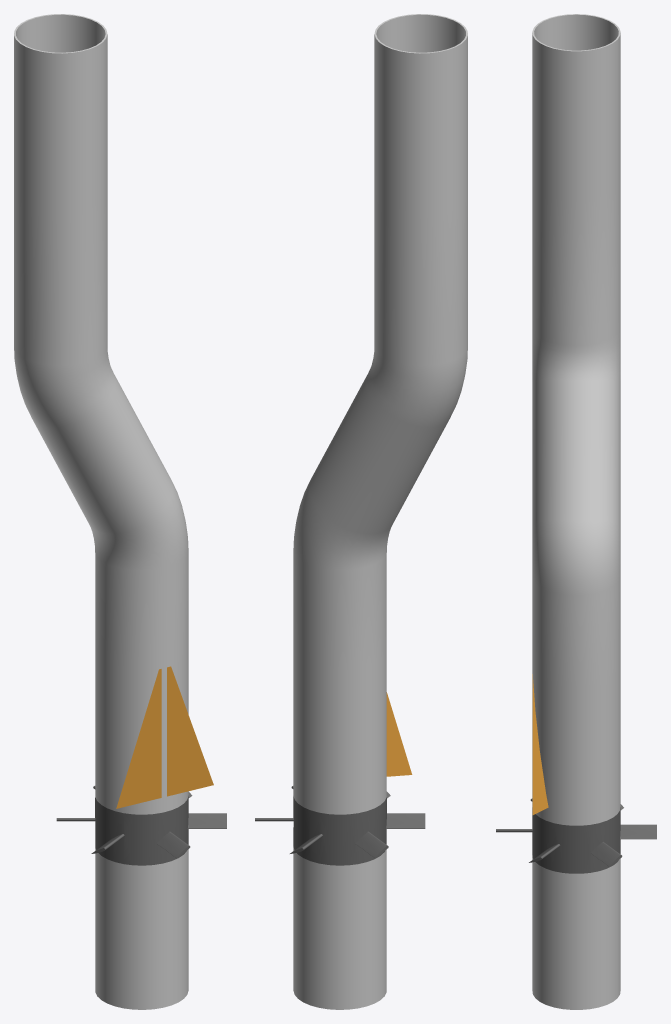
File: fan_tunnel.fbx
3 renders of one model, left to right at view 1: azimuth 30°, elevation 25°; view 2: azimuth 150°, elevation 25°; view 3: azimuth 270°, elevation 25°, orthographic. The views are drawn at different scales.
Visible parts, largest first — view 1: ztube, tube, ramp, Fan, Fan blade.003; view 2: ztube, tube, Fan, Fan blade.003, ramp; view 3: ztube, tube, Fan, Fan blade.003, ramp.
Boxes of the visible parts, x1,y1,x2,y2 form: ztube: (14, 14, 188, 670); tube: (95, 651, 188, 1009); ramp: (116, 666, 213, 808); Fan: (95, 796, 188, 865); Fan blade.003: (56, 786, 226, 857); ztube: (293, 14, 467, 670); tube: (293, 651, 386, 1009); Fan: (293, 796, 386, 865); Fan blade.003: (255, 786, 425, 857); ramp: (386, 692, 412, 776); ztube: (532, 14, 620, 689); tube: (532, 671, 620, 1009); Fan: (532, 807, 620, 873); Fan blade.003: (496, 798, 656, 866); ramp: (532, 674, 548, 814).
Bounding box in the file's own units: 1616 × 7953 × 1257.
